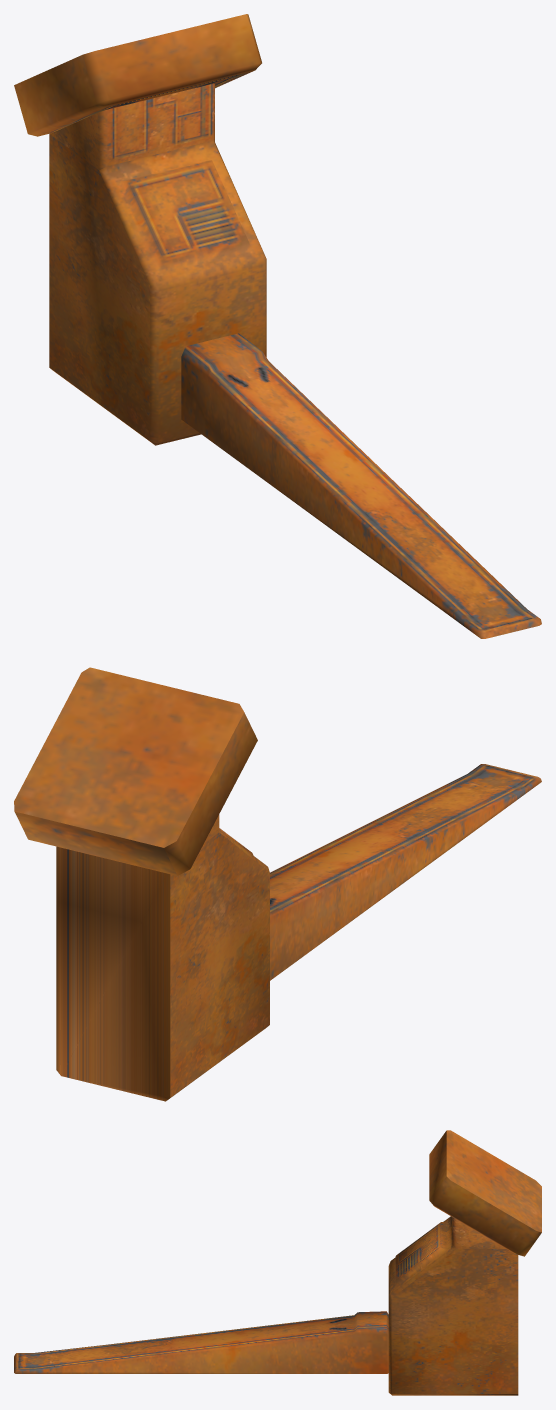
The model's file is 05_01_adon_fot.DAE.
The picture shows the model from 3 angles, top to bottom: view 1: azimuth 30°, elevation 25°; view 2: azimuth 150°, elevation 25°; view 3: azimuth 270°, elevation 25°; orthographic projection. The views are drawn at different scales.
Parts seen in each view (by area): view 1: fot; view 2: fot; view 3: fot.
Part boxes in pixels (bbox=[...]): fot: bbox=[14, 14, 541, 638]; fot: bbox=[14, 667, 541, 1101]; fot: bbox=[14, 1130, 541, 1395].
Size of the model in its own units: 0.2862 by 0.6053 by 1.27.
